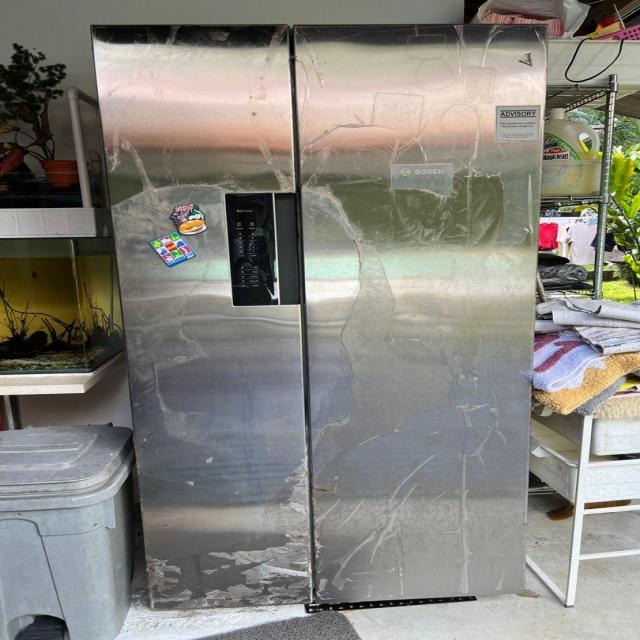refrigerator: (89, 19, 553, 620)
